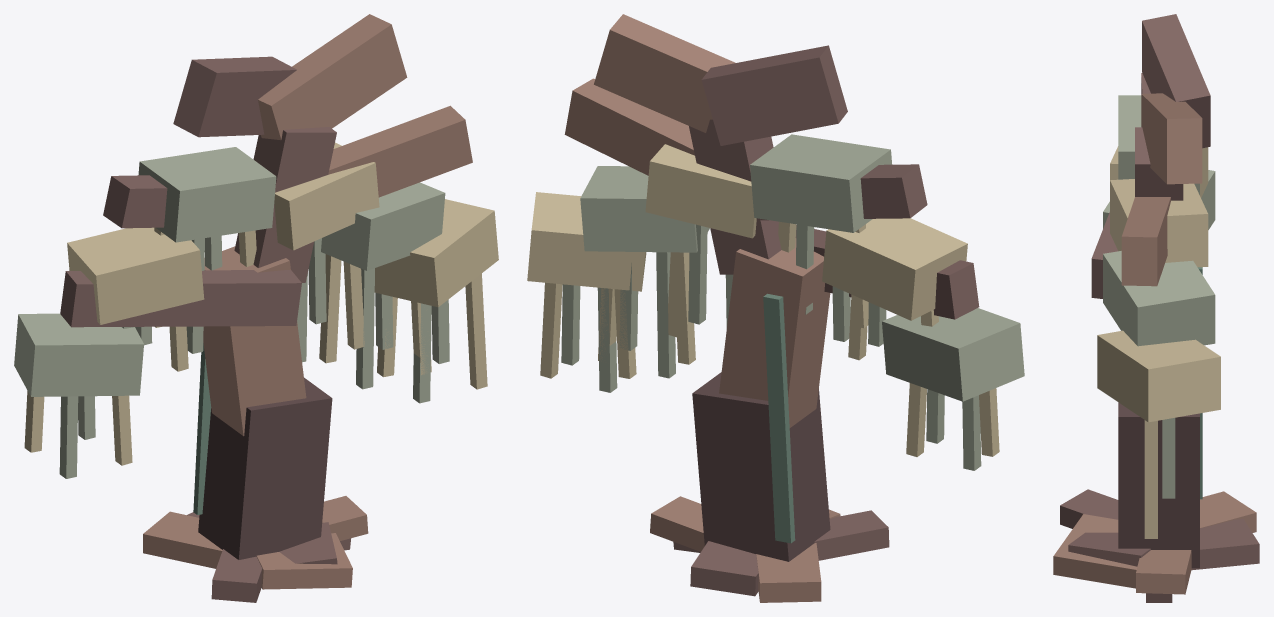
Rendered from gothic_weeping_tree.glb.
The picture shows the model from 3 angles, left to right: view 1: azimuth 30°, elevation 25°; view 2: azimuth 150°, elevation 25°; view 3: azimuth 270°, elevation 25°; orthographic projection. The views are drawn at different scales.
Visible parts, largest first — view 1: Moonpost Ancient Weeping Tree; view 2: Moonpost Ancient Weeping Tree; view 3: Moonpost Ancient Weeping Tree.
Boxes of the visible parts, x1,y1,x2,y2 form: Moonpost Ancient Weeping Tree: (14, 14, 498, 602); Moonpost Ancient Weeping Tree: (527, 14, 1024, 602); Moonpost Ancient Weeping Tree: (1053, 14, 1259, 602).
Size of the model in its own units: 14.18 by 14.72 by 5.3.
